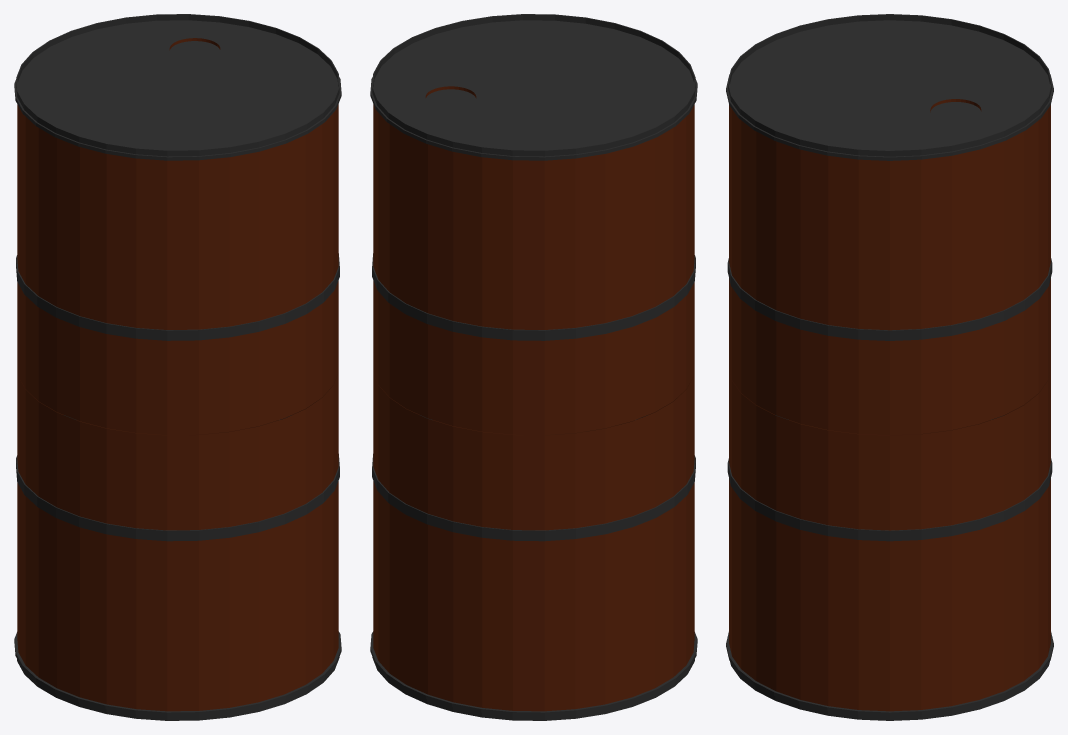
The model's file is quest_item2.glb.
3 views of the same model, side by side, from view 1: azimuth 30°, elevation 25°; view 2: azimuth 150°, elevation 25°; view 3: azimuth 270°, elevation 25° (orthographic).
Visible parts, largest first — view 1: Cylinder; view 2: Cylinder; view 3: Cylinder.
Part boxes in pixels (x1,y1,x2,y2): Cylinder: [14, 14, 341, 720]; Cylinder: [370, 14, 697, 720]; Cylinder: [726, 14, 1053, 720].
Size of the model in its own units: 3.19 by 6.12 by 3.19.
